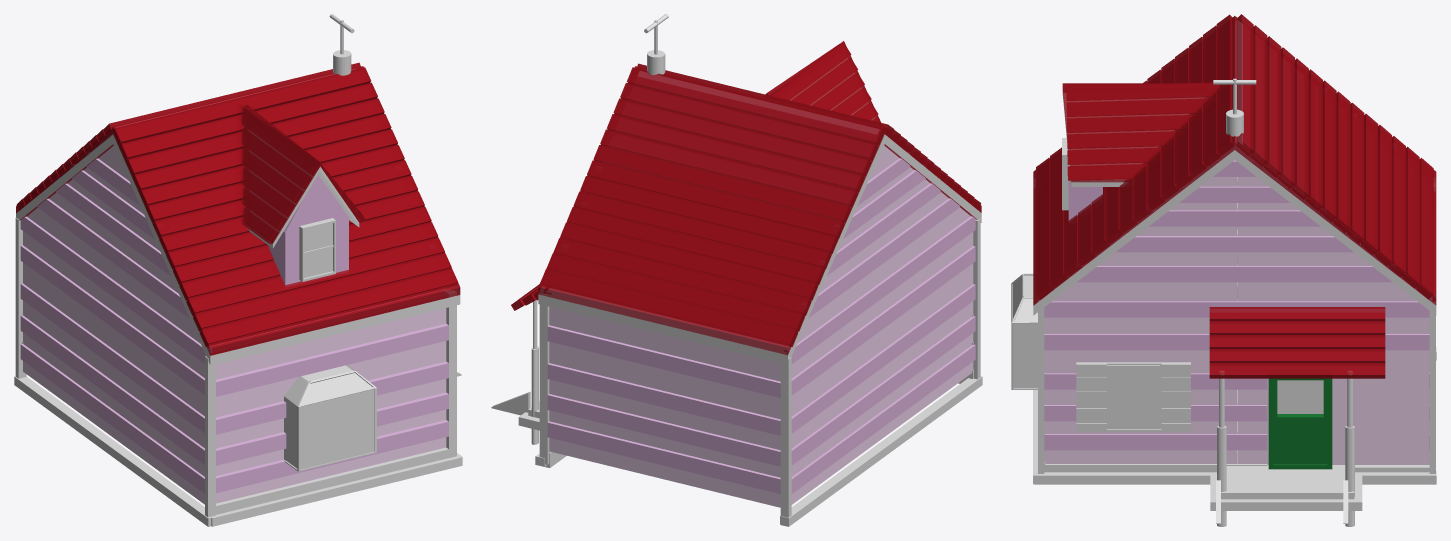
File: Circuito_Casa 2.fbx
3 views of the same model, side by side, from view 1: azimuth 30°, elevation 25°; view 2: azimuth 150°, elevation 25°; view 3: azimuth 270°, elevation 25° (orthographic). The views are drawn at different scales.
Parts seen in each view (by area): view 1: Techo, Tabla techo, Cube.001, Ventana 2, Segundo techo, Tabla.028, Tabla.015, Cube.002, Borde casa 7, Tabla.031, Tabla.029, Tabla.033 (+18 smaller); view 2: Techo, Tabla techo.001, Cube.001, Tabla.023, Tabla.021, Tabla.024, Tabla.022, Segundo techo, Tabla.028, Borde casa 7, Tabla.031, Tabla.033 (+12 smaller); view 3: Techo, Cube.001, Tabla techo.001, Tabla techo, Tabla.030, Tabla.026, Segundo techo, Puerta, Tabla.005, Tabla, Ventana, Piso escalera (+19 smaller).
Part boxes in pixels (box(x1,y1,x2,y2)): Techo: box(16, 66, 460, 365); Tabla techo: box(112, 67, 458, 346); Cube.001: box(23, 69, 446, 504); Ventana 2: box(283, 365, 376, 471); Segundo techo: box(241, 105, 359, 248); Tabla.028: box(239, 106, 319, 244); Tabla.015: box(216, 323, 448, 396); Cube.002: box(268, 175, 348, 286); Borde casa 7: box(14, 376, 216, 526); Tabla.031: box(20, 283, 204, 433); Tabla.029: box(20, 315, 204, 465); Tabla.033: box(20, 245, 204, 394); Techo: box(538, 66, 981, 364); Tabla techo.001: box(540, 67, 884, 346); Cube.001: box(549, 71, 973, 507); Tabla.023: box(547, 363, 780, 435); Tabla.021: box(547, 421, 780, 493); Tabla.024: box(547, 325, 780, 397); Tabla.022: box(547, 394, 780, 466); Segundo techo: box(767, 41, 879, 121); Tabla.028: box(771, 43, 881, 122); Borde casa 7: box(780, 376, 982, 526); Tabla.031: box(791, 284, 975, 433); Tabla.033: box(791, 246, 975, 395); Techo: box(1033, 16, 1436, 315); Cube.001: box(1044, 20, 1431, 464); Tabla techo.001: box(1237, 14, 1433, 298); Tabla techo: box(1036, 14, 1233, 297); Tabla.030: box(1209, 307, 1385, 378); Tabla.026: box(1066, 82, 1219, 180); Segundo techo: box(1062, 83, 1225, 186); Puerta: box(1268, 378, 1332, 469); Tabla.005: box(1044, 299, 1429, 317); Tabla: box(1077, 264, 1396, 282); Ventana: box(1076, 362, 1190, 432); Piso escalera: box(1221, 452, 1354, 499).
Size of the model in its own units: 1090 by 1217 by 1136.
